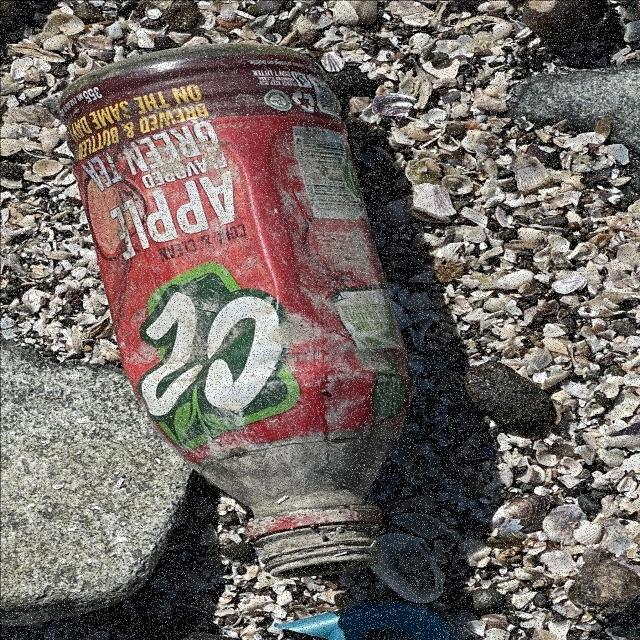plastic_waste: (32, 47, 408, 579)
